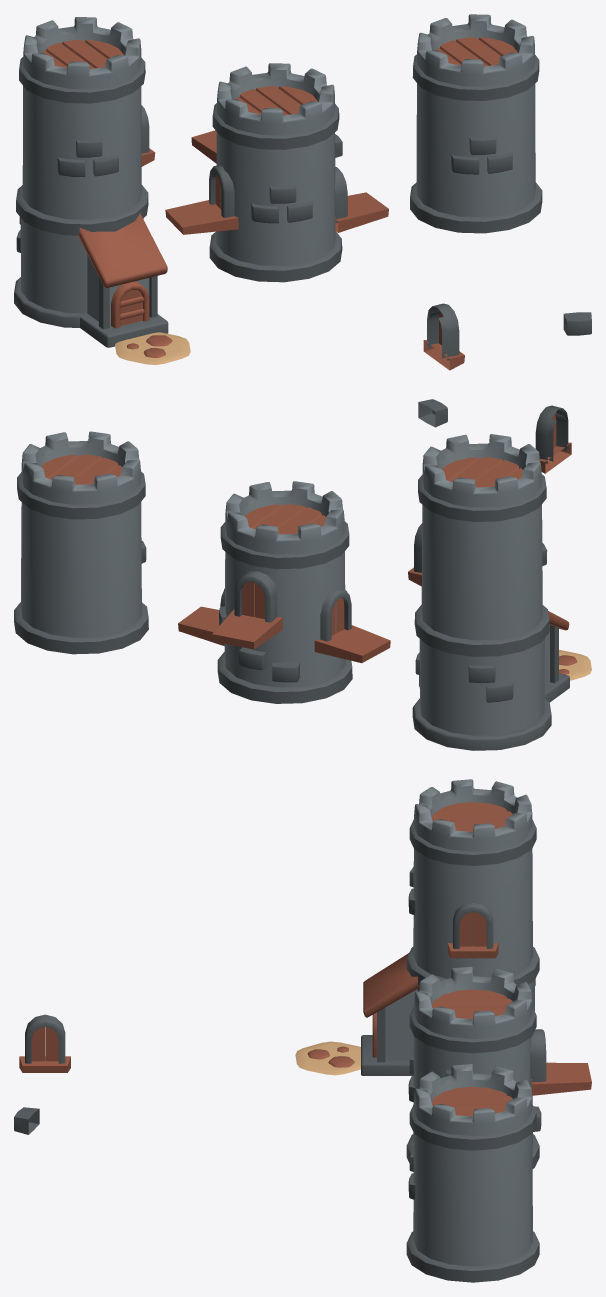
Rendered from Towers.glb.
3 views of the same model, one above another, from view 1: azimuth 30°, elevation 25°; view 2: azimuth 150°, elevation 25°; view 3: azimuth 270°, elevation 25° (orthographic). The views are drawn at different scales.
Parts seen in each view (by area): view 1: Tower_Foundation, Archer_Tower, Template, Door, Brick; view 2: Tower_Foundation, Archer_Tower, Template, Door, Brick; view 3: Tower_Foundation, Template, Archer_Tower, Door.
Part boxes in pixels (x1=…): Tower_Foundation: x1=14, y1=17, x2=190, y2=364; Archer_Tower: x1=165, y1=63, x2=388, y2=282; Template: x1=410, y1=14, x2=542, y2=233; Door: x1=423, y1=303, x2=464, y2=370; Brick: x1=563, y1=312, x2=591, y2=335; Tower_Foundation: x1=408, y1=434, x2=591, y2=750; Archer_Tower: x1=178, y1=481, x2=390, y2=703; Template: x1=14, y1=431, x2=148, y2=654; Door: x1=535, y1=405, x2=571, y2=473; Brick: x1=418, y1=399, x2=447, y2=427; Tower_Foundation: x1=295, y1=779, x2=539, y2=1075; Template: x1=406, y1=1064, x2=539, y2=1282; Archer_Tower: x1=406, y1=966, x2=591, y2=1168; Door: x1=19, y1=1014, x2=70, y2=1072.
Bounding box in the file's own units: 4.09 × 2 × 4.02.
